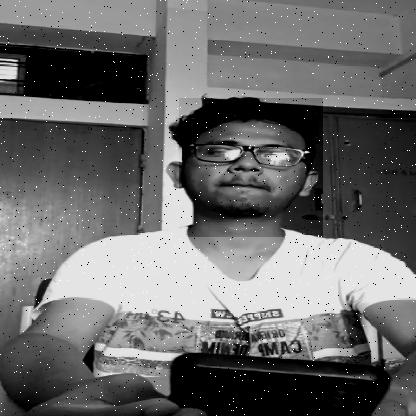Normal: (179, 98, 323, 237)
